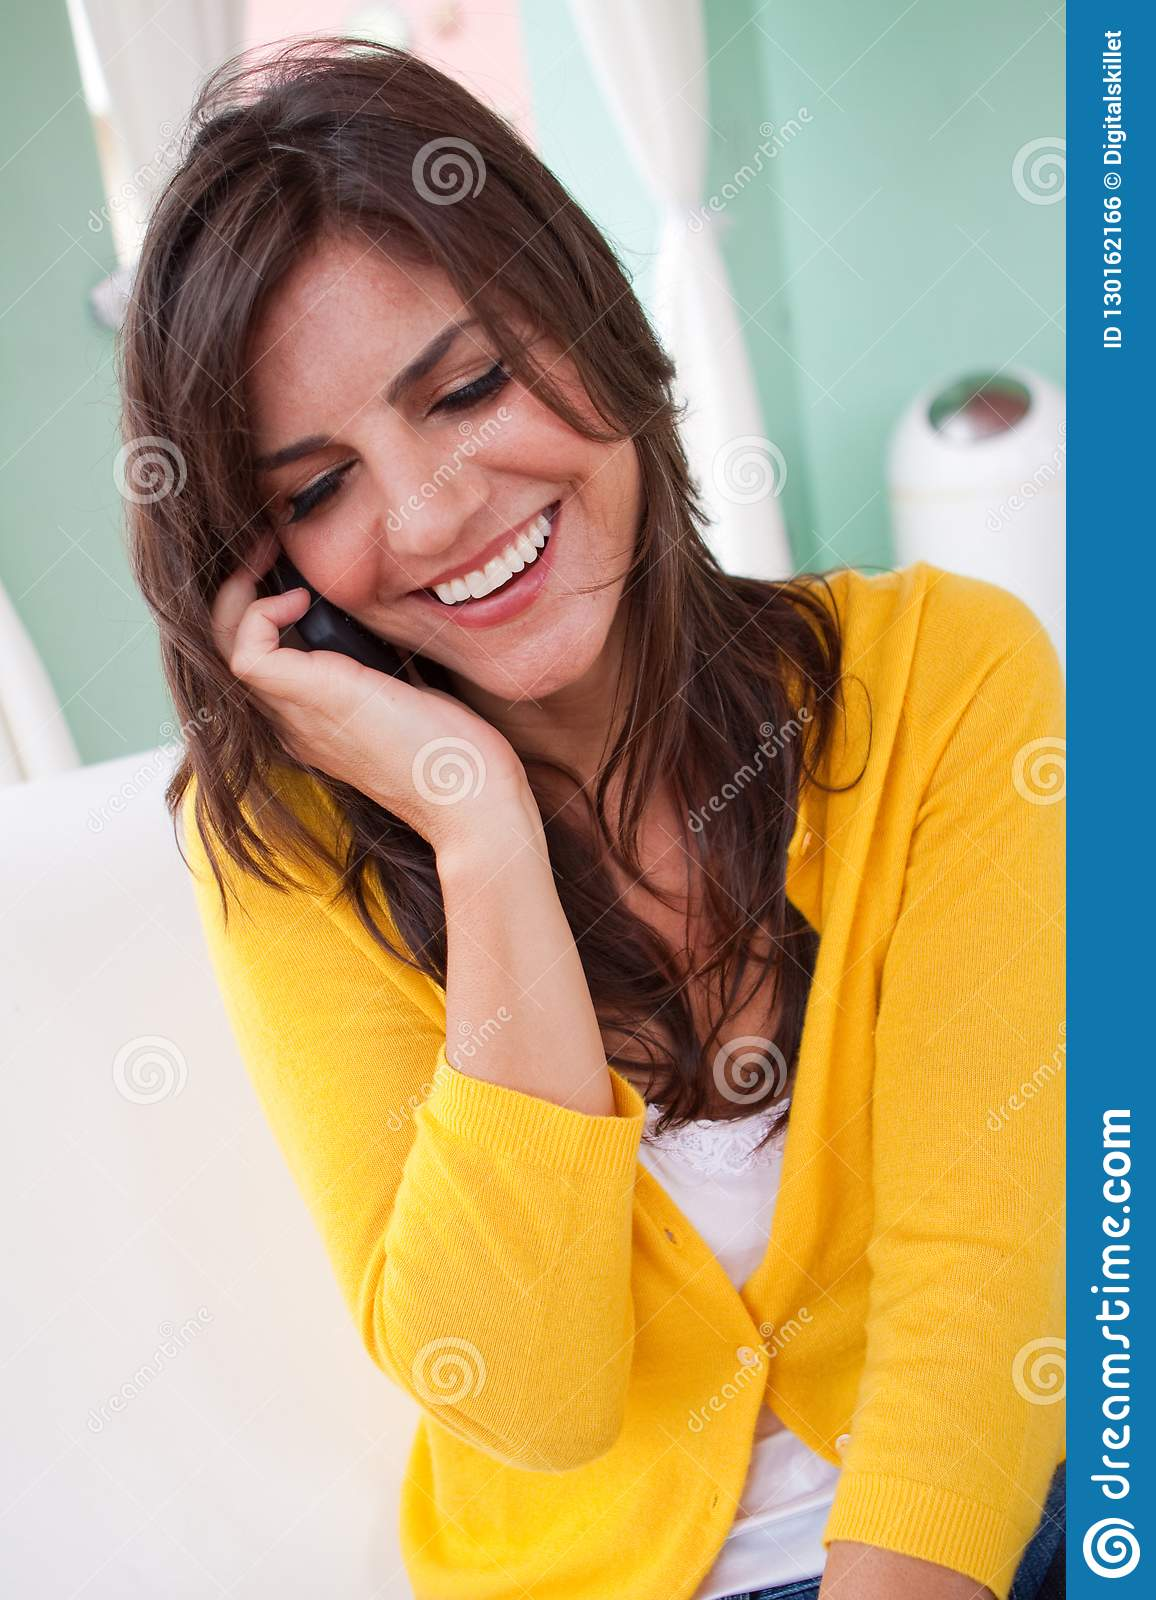talk: (204, 275, 637, 897)
